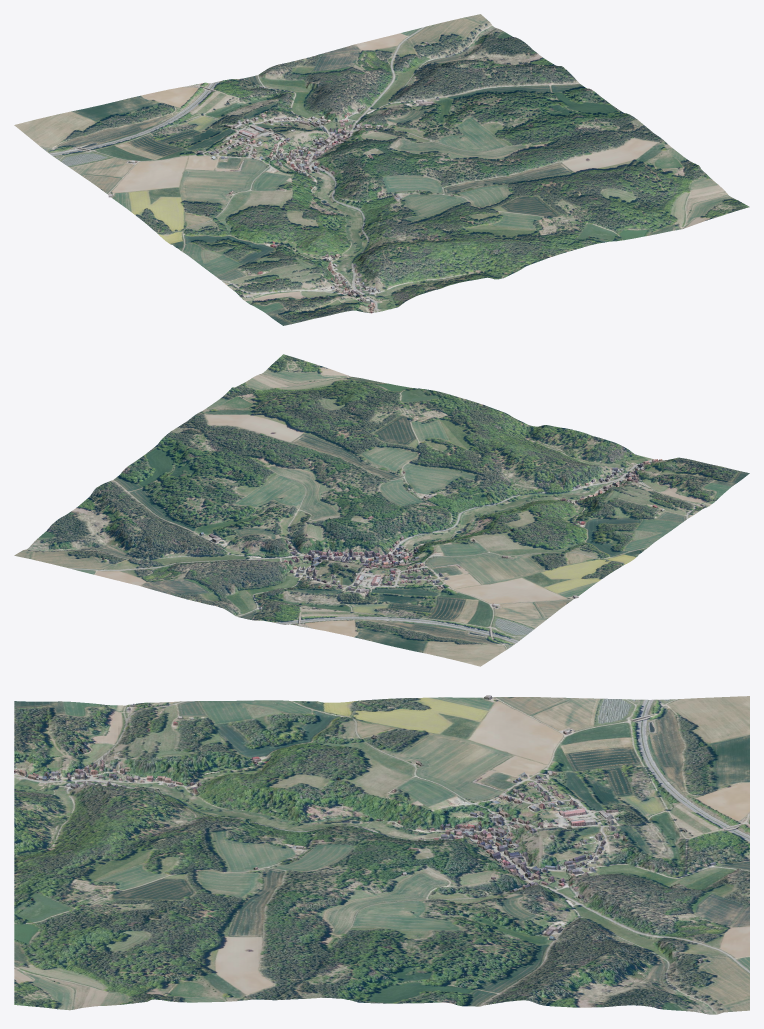
The model's file is asset.glb.
3 renders of one model, top to bottom at view 1: azimuth 30°, elevation 25°; view 2: azimuth 150°, elevation 25°; view 3: azimuth 270°, elevation 25°, orthographic. The views are drawn at different scales.
Parts seen in each view (by area): view 1: DGM10_Kulmbach_Schirradorf, Stadtmodell; view 2: DGM10_Kulmbach_Schirradorf, Stadtmodell; view 3: DGM10_Kulmbach_Schirradorf, Stadtmodell.
Part boxes in pixels (x1,y1,x2,y2): DGM10_Kulmbach_Schirradorf: (14, 14, 749, 325); Stadtmodell: (73, 42, 590, 313); DGM10_Kulmbach_Schirradorf: (14, 354, 749, 666); Stadtmodell: (100, 393, 705, 637); DGM10_Kulmbach_Schirradorf: (14, 696, 749, 1014); Stadtmodell: (14, 695, 742, 980).
Bounding box in the file's own units: 1997 × 82.93 × 1991.
2 materials, 2 textured.
